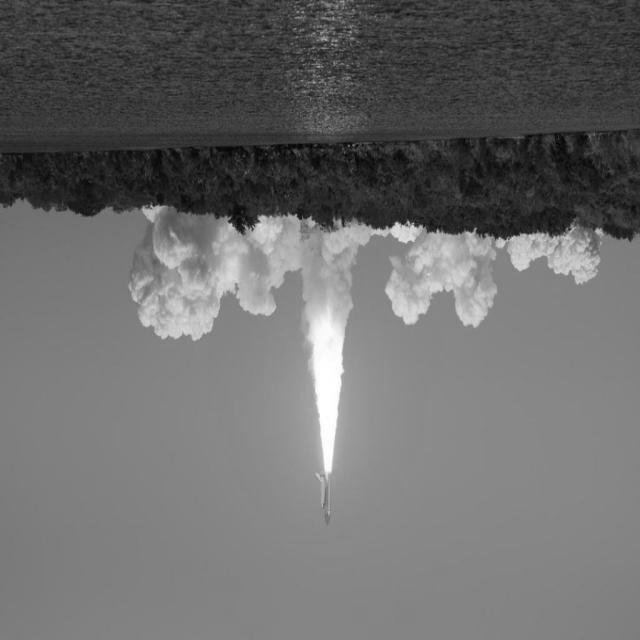missile: (320, 474, 326, 510)
